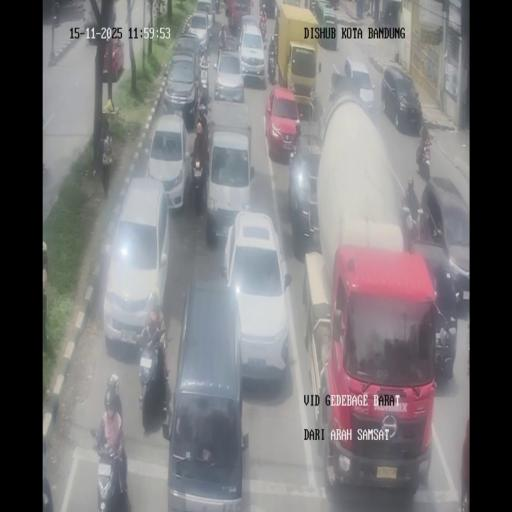3: (320, 242, 440, 494), (303, 254, 332, 424), (275, 2, 318, 103), (311, 0, 338, 49)
car: (166, 284, 247, 508), (102, 176, 169, 351), (222, 210, 290, 382), (412, 180, 469, 315), (204, 118, 255, 245), (146, 114, 190, 213), (288, 140, 320, 254), (162, 53, 201, 128), (265, 86, 301, 162), (382, 64, 422, 132), (330, 58, 376, 116), (238, 19, 266, 85), (213, 48, 245, 103), (102, 34, 124, 82), (186, 10, 211, 51), (229, 0, 253, 31), (84, 7, 98, 45)
truck: (95, 431, 130, 510), (137, 330, 166, 420), (190, 146, 208, 216), (400, 200, 418, 244), (416, 141, 430, 180), (196, 104, 209, 145), (199, 52, 209, 100), (268, 43, 276, 82), (42, 159, 50, 188), (218, 23, 226, 50), (259, 20, 267, 42), (222, 0, 230, 13), (210, 0, 217, 14)
